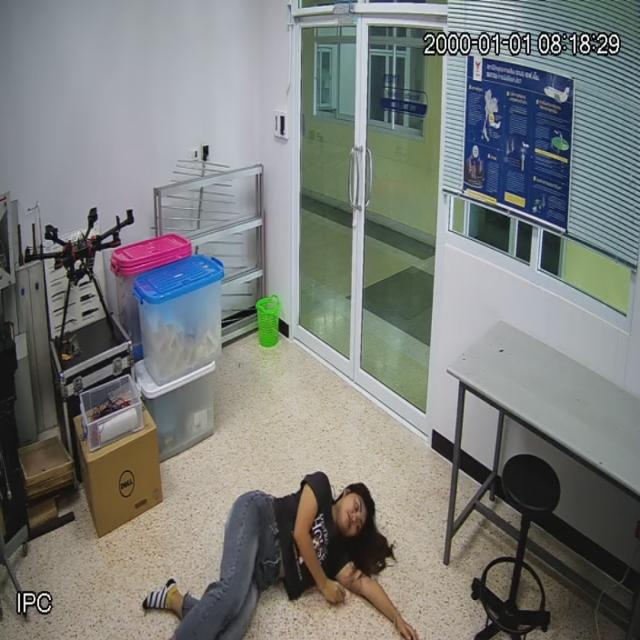fall: (150, 465, 405, 640)
